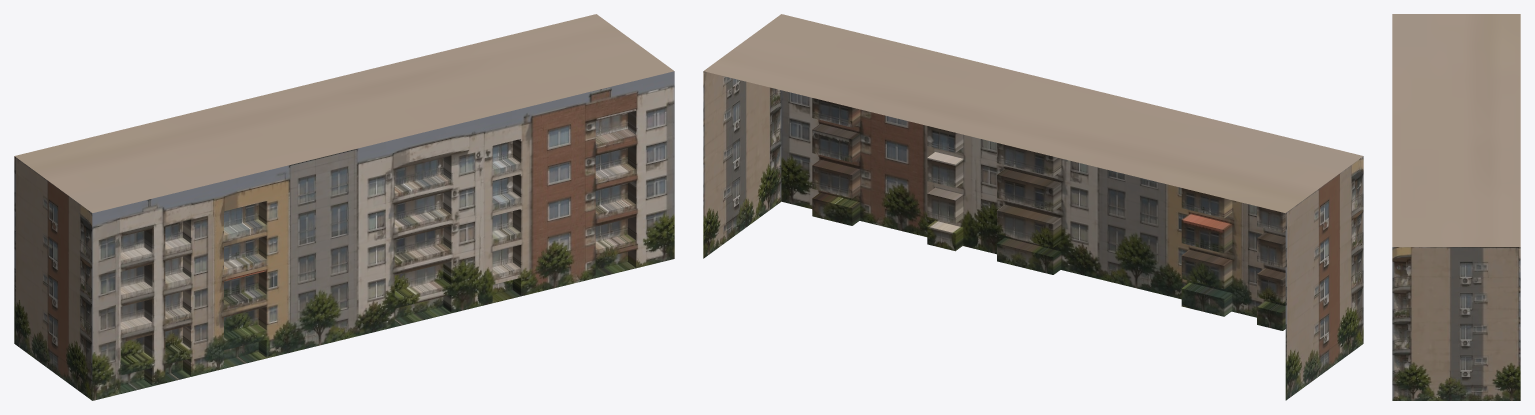
Rendered from Building_Lowpoly_001.fbx.
3 views of the same model, side by side, from view 1: azimuth 30°, elevation 25°; view 2: azimuth 150°, elevation 25°; view 3: azimuth 270°, elevation 25° (orthographic). The views are drawn at different scales.
Parts seen in each view (by area): view 1: Building_Lowpoly_001; view 2: Building_Lowpoly_001; view 3: Building_Lowpoly_001.
Part boxes in pixels (box(x1,y1,x2,y2)): Building_Lowpoly_001: box(14, 14, 674, 400); Building_Lowpoly_001: box(703, 14, 1363, 400); Building_Lowpoly_001: box(1392, 14, 1520, 400).
Bounding box in the file's own units: 44.3 × 13.65 × 10.3.
Materials: 1 (1 with a texture image).
